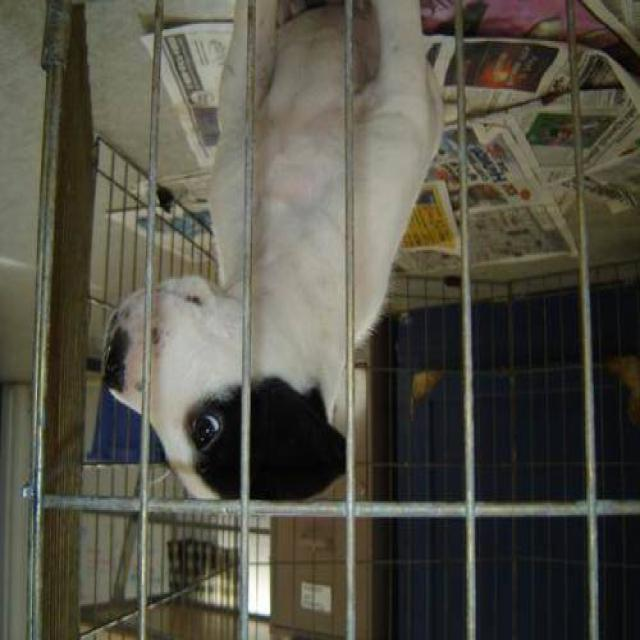dog: (100, 0, 468, 512)
